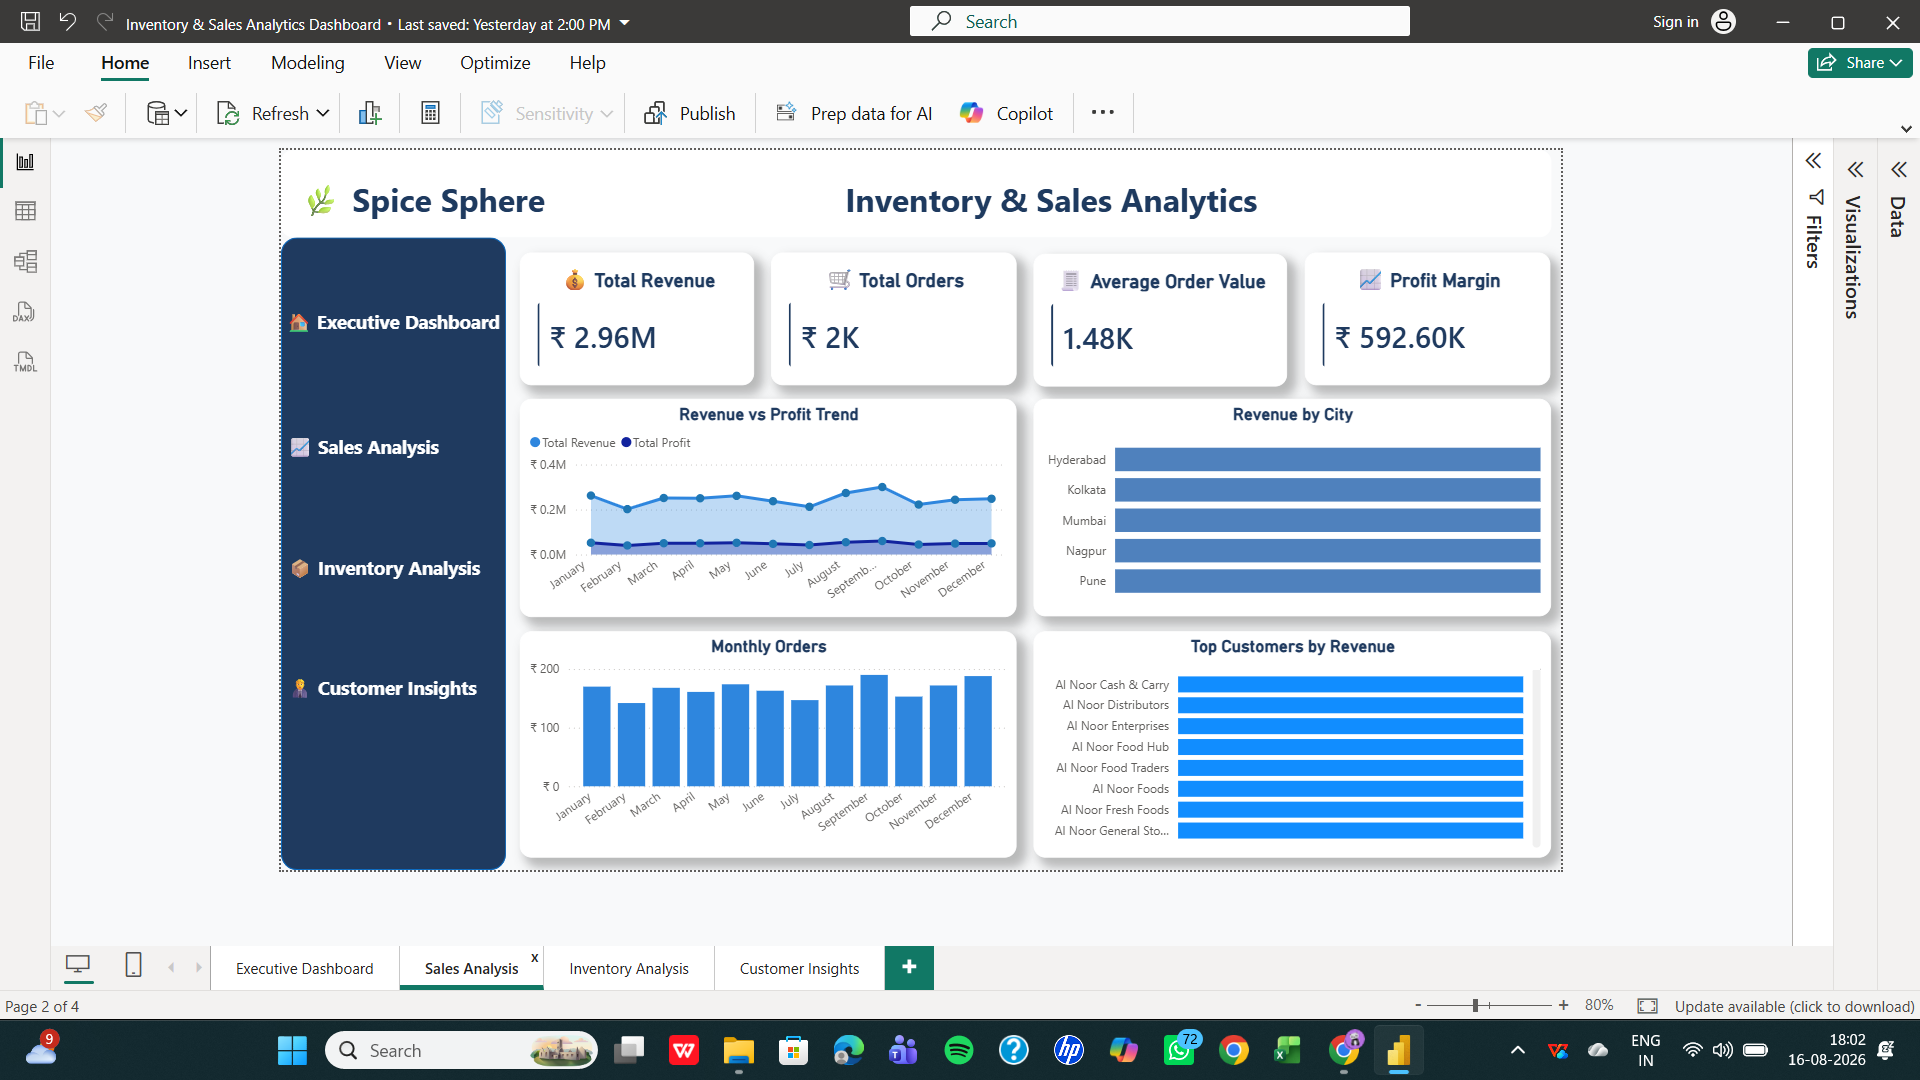

What the dashboard file says about the page in this screenshot:
{"tool":"powerbi","page":{"name":"Sales Analysis","canvas":[1280,720],"ordinal":1},"visuals":[{"type":"textbox","box":[0,0,1270,87.1],"z":0},{"type":"shape","box":[0,87.8,225,632.6],"z":1000},{"type":"textbox","box":[0,153.7,247,54.9],"z":2000},{"type":"textbox","box":[1.7,278.3,224.3,51.4],"z":3000},{"type":"textbox","box":[1.7,399.4,224.3,51.4],"z":4000},{"type":"textbox","box":[1.7,520.6,224.3,51.4],"z":5000},{"type":"cardVisual","title":"💰  Total Revenue","fields":{"Data":["Sales.Total Revenue"]},"box":[238.8,102.9,234.6,133.1],"z":6000},{"type":"cardVisual","title":"🛒  Total Orders","fields":{"Data":["Sales.Total Orders"]},"box":[489.9,102.9,245.6,133.1],"z":7000},{"type":"cardVisual","title":"🧾  Average Order Value","fields":{"Data":["Customers.Average Order Value"]},"box":[760.2,102.9,245.6,133.1],"z":8000},{"type":"cardVisual","title":"📈  Profit Margin","fields":{"Data":["Sales.Total Profit"]},"box":[1024.3,102.9,245.7,132.9],"z":9000},{"type":"lineChart","title":"Revenue vs Profit Trend","fields":{"Category":["Sales.Date.Variation.Date Hierarchy.Month"],"Y":["Sales.Total Revenue","Sales.Total Profit"]},"box":[238.8,248.4,496.7,218.2],"z":10000},{"type":"hundredPercentStackedBarChart","title":"Revenue by City","fields":{"Y":["Sum(Sales.Revenue)"],"Category":["Customers.City"]},"box":[760.2,248.4,509.1,218.2],"z":11000},{"type":"clusteredColumnChart","title":"Monthly Orders","fields":{"Category":["Sales.Date.Variation.Date Hierarchy.Month"],"Y":["Sales.Total Orders"]},"box":[238.8,481.6,496.7,226.4],"z":12000},{"type":"clusteredBarChart","title":"Top Customers by Revenue","fields":{"Y":["Sales.Total Revenue"],"Category":["realistic_customer_names_873.Customer_Name_New"]},"box":[760.2,481.6,509.1,226.4],"z":13000}]}

Visuals, with their boxes on the page's 1280x720 design canvas (x1, y1, x2, y2). These are canvas units, not pixel positions in the 1920x1080 screenshot, which may show the page scaled, cropped or inside an application window:
textbox: Rect(0, 0, 1270, 87)
shape: Rect(0, 88, 225, 720)
textbox: Rect(0, 154, 247, 209)
textbox: Rect(2, 278, 226, 330)
textbox: Rect(2, 399, 226, 451)
textbox: Rect(2, 521, 226, 572)
"💰  Total Revenue" cardVisual: Rect(239, 103, 473, 236)
"🛒  Total Orders" cardVisual: Rect(490, 103, 736, 236)
"🧾  Average Order Value" cardVisual: Rect(760, 103, 1006, 236)
"📈  Profit Margin" cardVisual: Rect(1024, 103, 1270, 236)
"Revenue vs Profit Trend" lineChart: Rect(239, 248, 736, 467)
"Revenue by City" hundredPercentStackedBarChart: Rect(760, 248, 1269, 467)
"Monthly Orders" clusteredColumnChart: Rect(239, 482, 736, 708)
"Top Customers by Revenue" clusteredBarChart: Rect(760, 482, 1269, 708)
